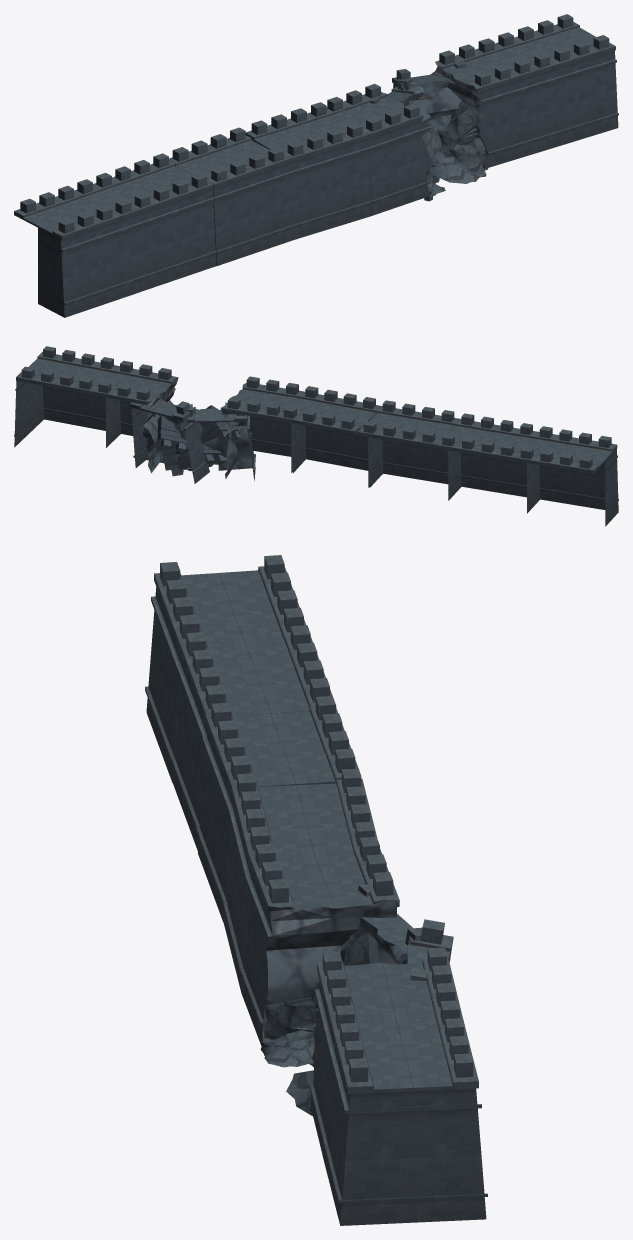
File: Area_07_2.fbx
3 renders of one model, top to bottom at view 1: azimuth 30°, elevation 25°; view 2: azimuth 150°, elevation 25°; view 3: azimuth 270°, elevation 25°, orthographic. The views are drawn at different scales.
Visible parts, largest first — view 1: Area_07_2; view 2: Area_07_2; view 3: Area_07_2.
Boxes of the visible parts, x1,y1,x2,y2 form: Area_07_2: [14, 14, 618, 317]; Area_07_2: [14, 346, 618, 526]; Area_07_2: [145, 555, 487, 1225].
Bounding box in the file's own units: 13249 × 2168 × 3677.
